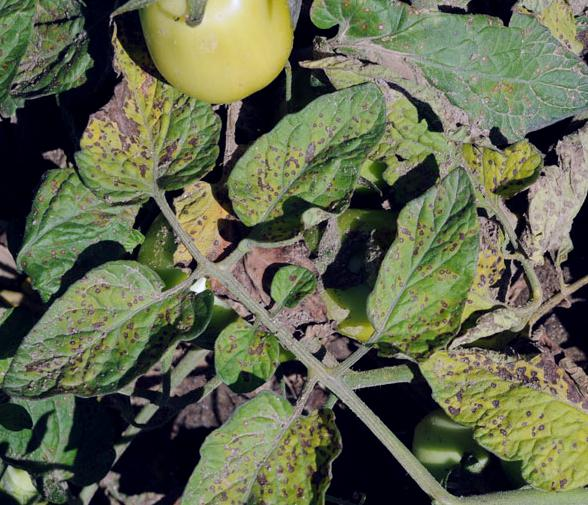Tomato Septoria leaf spot: (72, 30, 221, 230), (419, 334, 588, 498), (352, 165, 484, 364), (0, 261, 179, 404), (228, 93, 400, 240), (164, 391, 346, 505)
